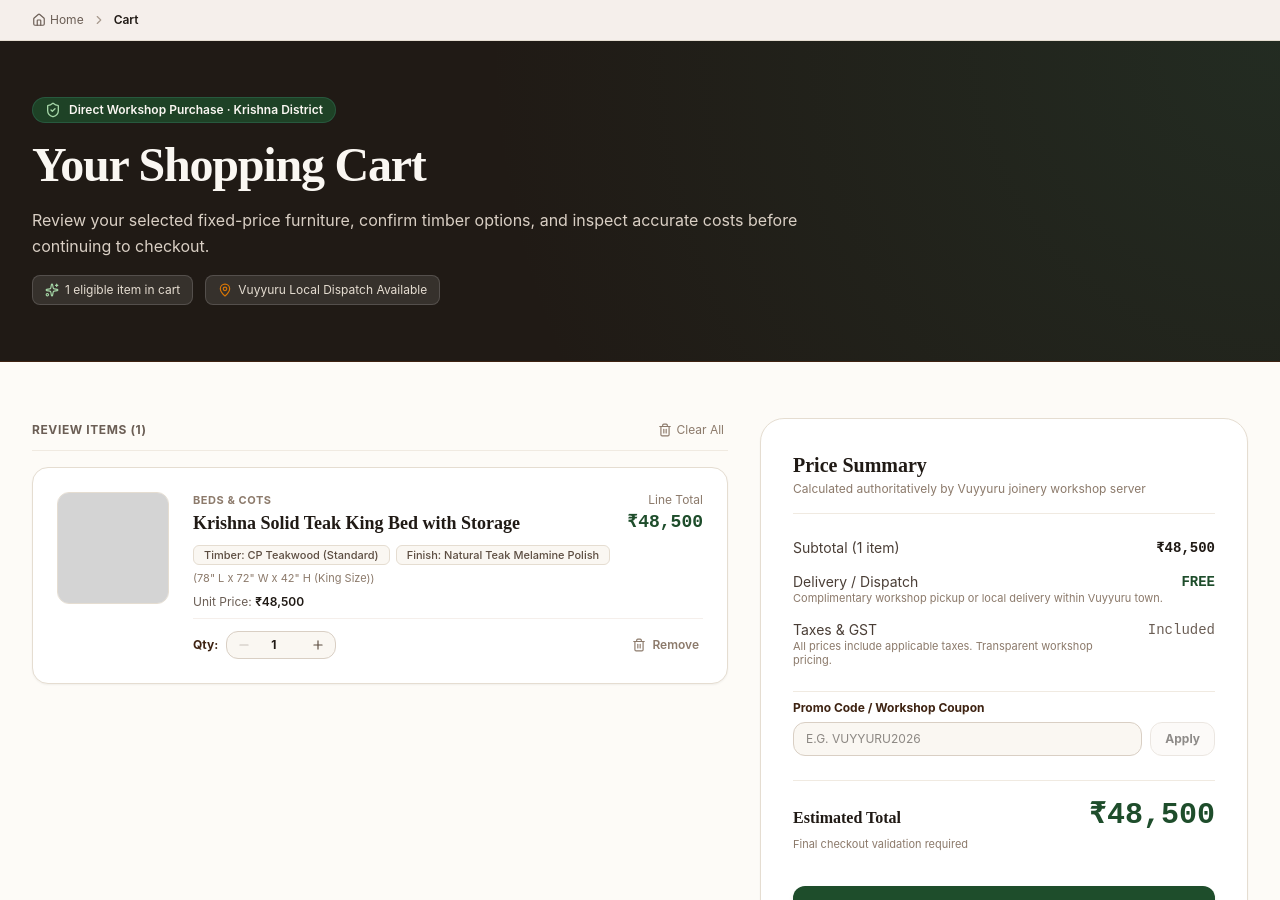
Test: Screen 10: Shopping Cart Acceptance Tests › 4. removing the last item displays the empty-cart state
The image size is (1280, 900).
Expected: the link "Krishna Solid Teak King Bed with Storage" is shown, [193,512,520,532]
Step 1. Click the button with aria-label "Remove Krishna Solid Teak King Bed with Storage from cart" → (666, 645), box [628,633,703,657]
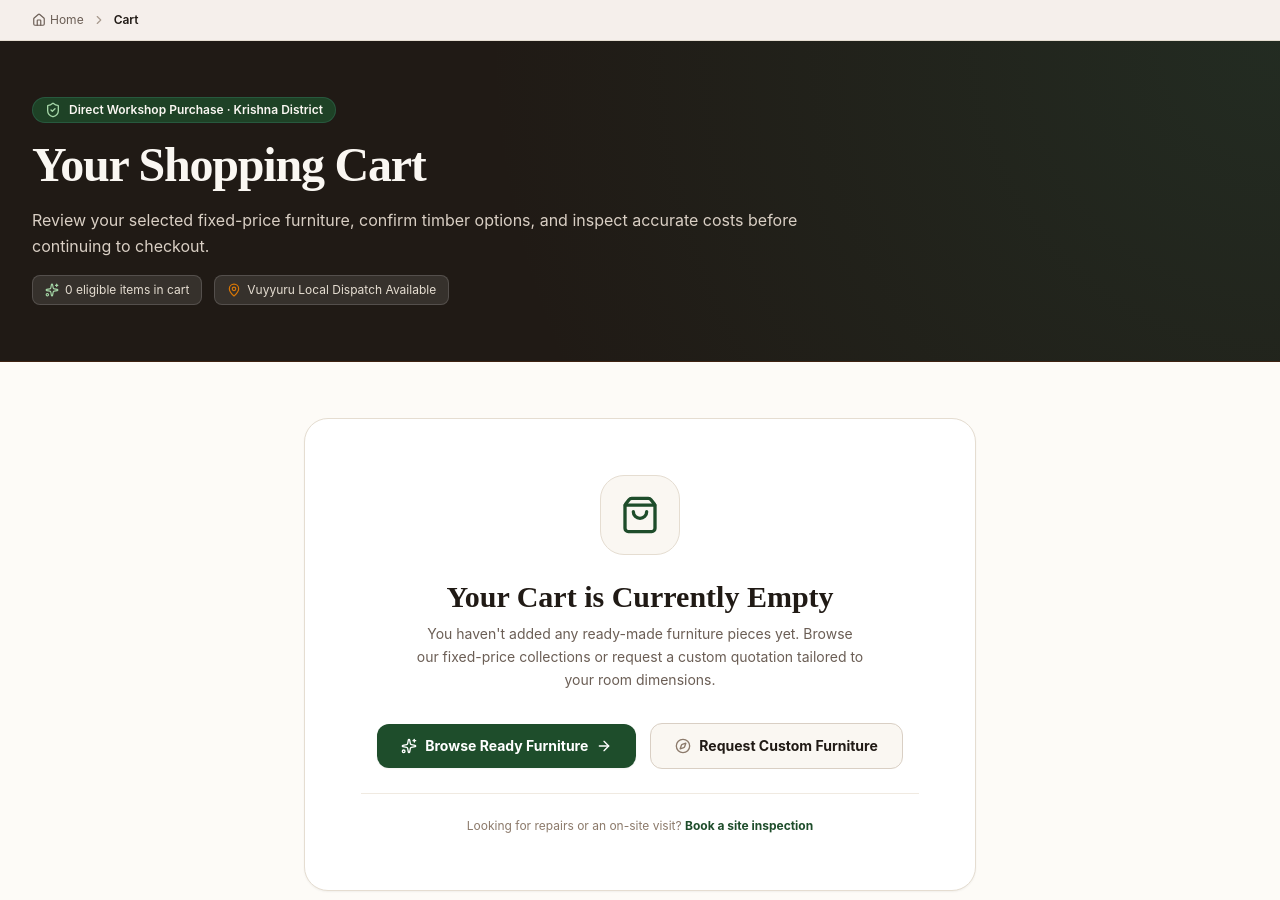
Expected: the element with test id "cart-empty-state" is shown, [304,418,976,891]
Expected: the heading "Your Cart is Currently Empty" is shown, [446,580,834,613]
Expected: the link "Browse Ready Furniture" is shown, [377,724,636,768]
